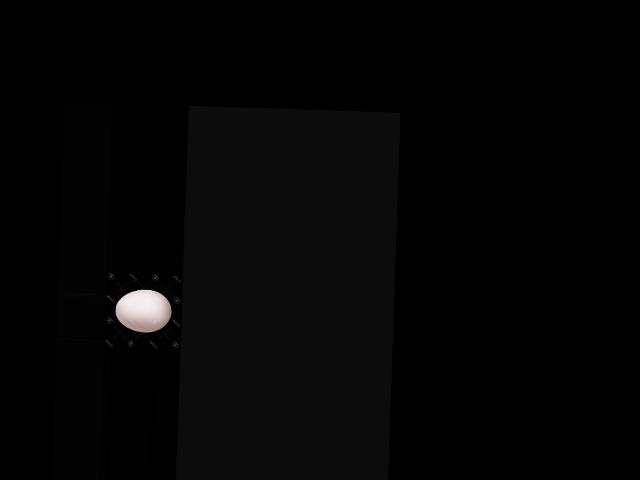egg: (115, 288, 172, 332)
